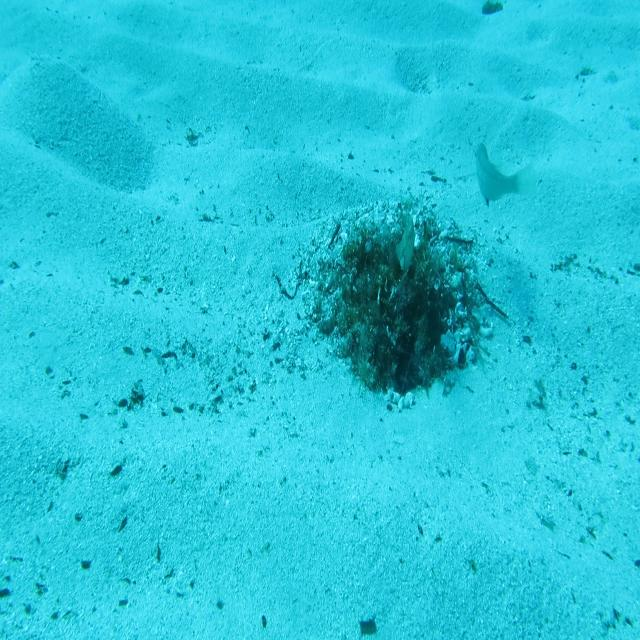NIP_CORE: (391, 208, 416, 278)
core_nest: (366, 247, 403, 275)
female: (474, 140, 540, 213)
nest: (286, 180, 500, 427)
vegetation: (481, 0, 506, 16), (360, 619, 378, 636)
